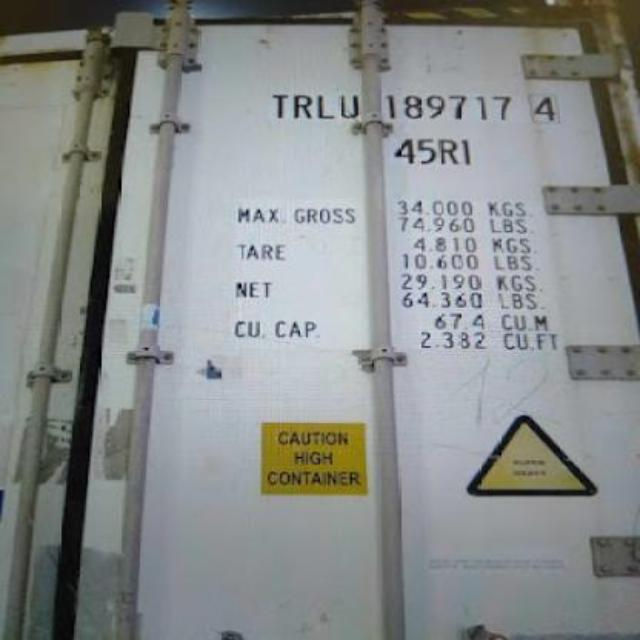1: (472, 90, 492, 122), (381, 89, 402, 119)
4: (530, 93, 564, 125)
7: (446, 87, 468, 123), (494, 86, 512, 126)
8: (404, 86, 424, 122)
9: (424, 86, 444, 126)
L: (314, 88, 338, 122)
R: (290, 86, 316, 126)
T: (266, 87, 292, 119)
U: (336, 86, 364, 124)
